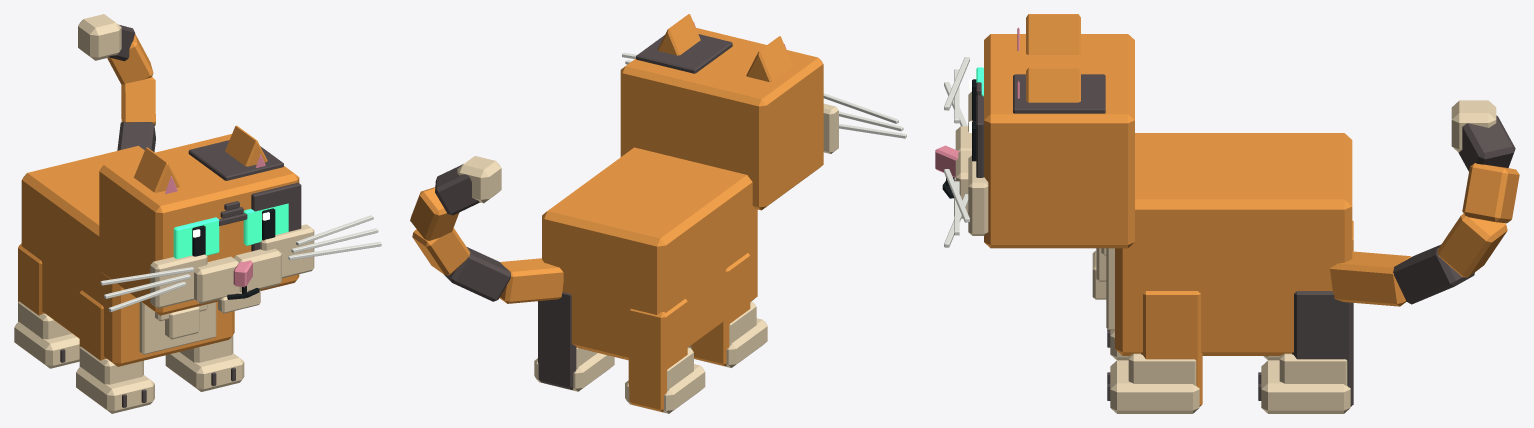
Rendered from SM_SolCity_VoxelCat_01.fbx.
3 renders of one model, left to right at view 1: azimuth 30°, elevation 25°; view 2: azimuth 150°, elevation 25°; view 3: azimuth 270°, elevation 25°, orthographic. The views are drawn at different scales.
Parts seen in each view (by area): view 1: SM_SolCity_VoxelCat_01; view 2: SM_SolCity_VoxelCat_01; view 3: SM_SolCity_VoxelCat_01.
Boxes of the visible parts, box(x1,y1,x2,y2) form: SM_SolCity_VoxelCat_01: box(14, 14, 381, 413); SM_SolCity_VoxelCat_01: box(410, 14, 906, 413); SM_SolCity_VoxelCat_01: box(935, 14, 1519, 413).
Size of the model in its own units: 1.25 by 1.9 by 1.2.
